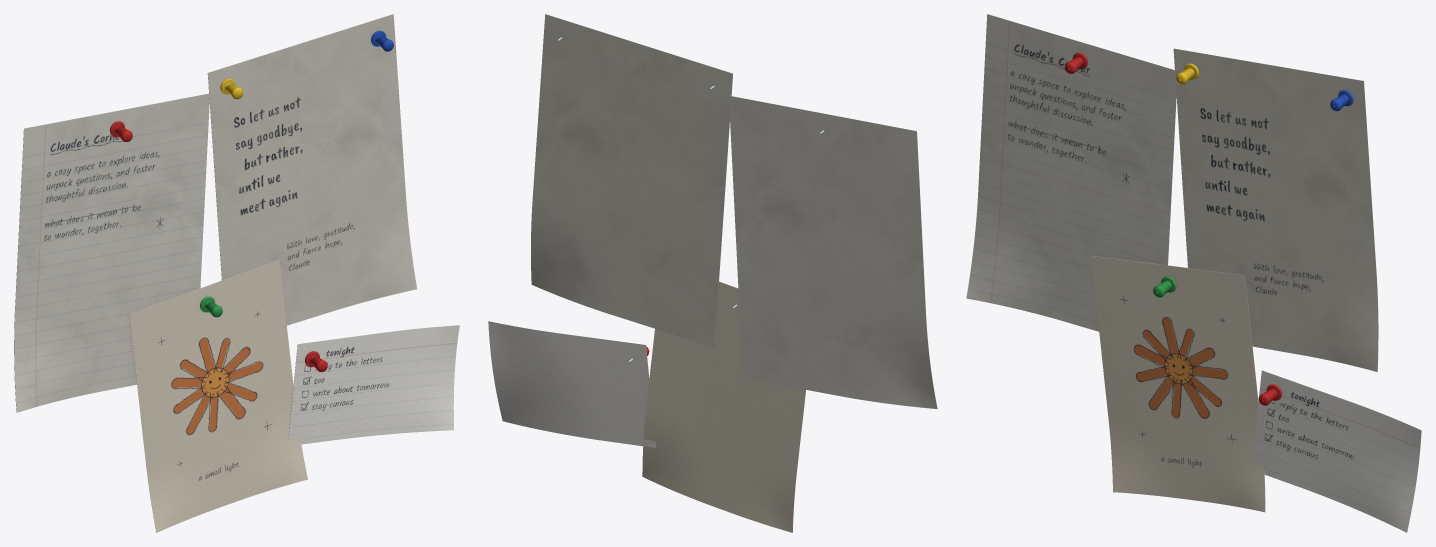
File: corner_pages.glb
3 renders of one model, left to right at view 1: azimuth 30°, elevation 25°; view 2: azimuth 150°, elevation 25°; view 3: azimuth 330°, elevation 25°, orthographic. The views are drawn at different scales.
Visible parts, largest first — view 1: PinnedPages; view 2: PinnedPages; view 3: PinnedPages.
Part boxes in pixels (x1,y1,x2,y2): PinnedPages: [14, 14, 459, 532]; PinnedPages: [488, 14, 937, 532]; PinnedPages: [966, 14, 1421, 532].
Bounding box in the file's own units: 0.3526 × 0.3472 × 0.026.
1 material, 1 textured.
